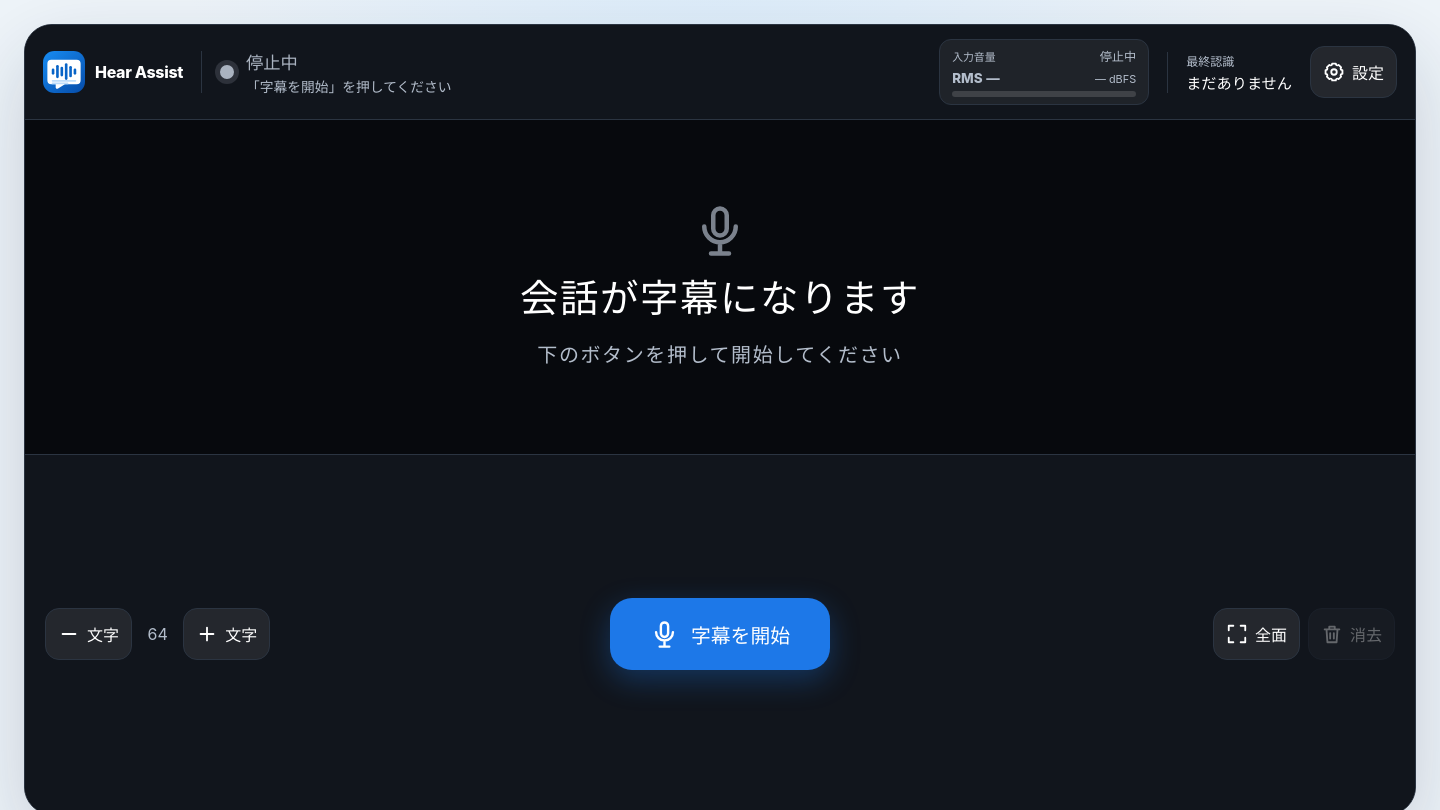
Test case: keeps Web Speech available and exposes local recognition speeds
Click the button "設定" at (1354, 72), box [1310, 46, 1397, 98]
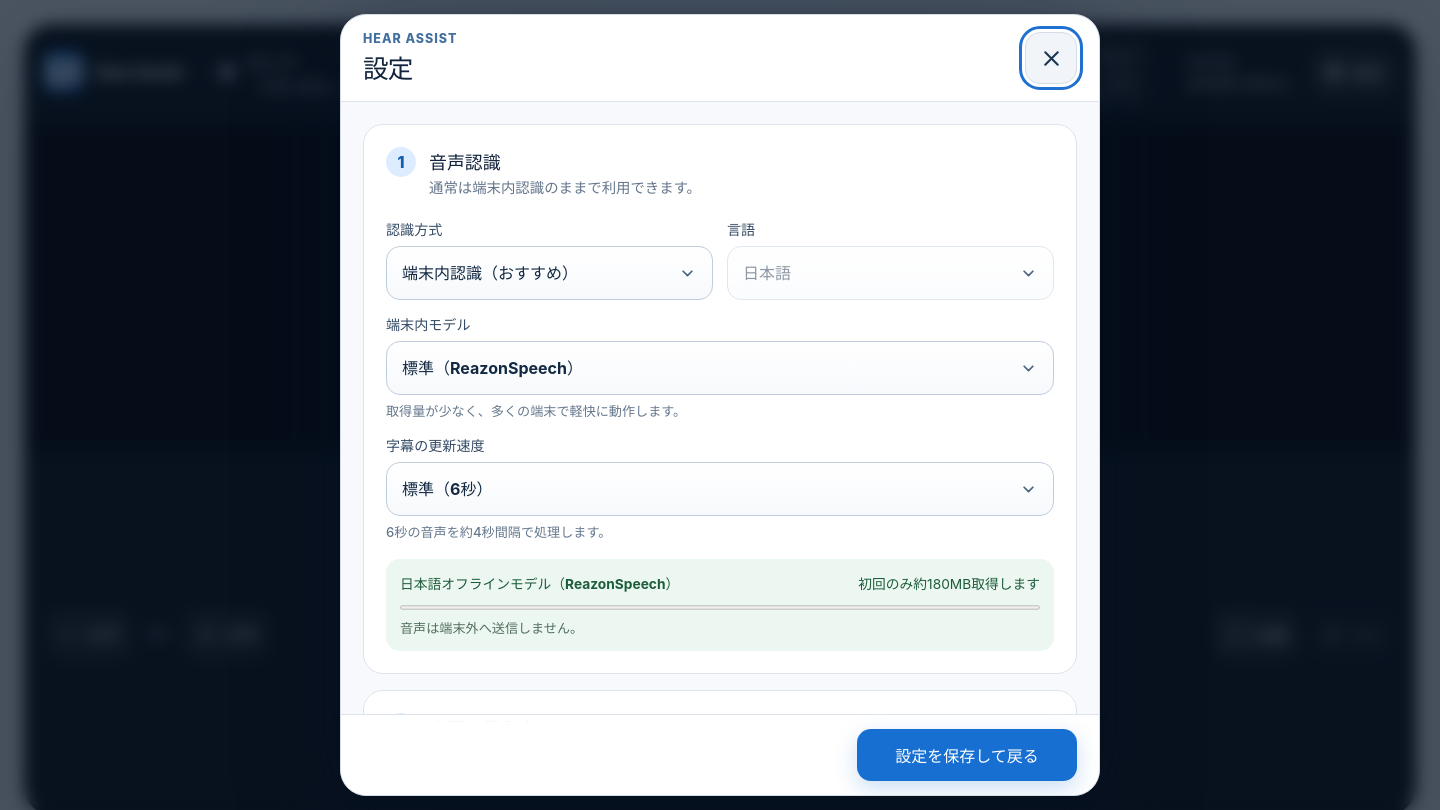
Result: the dropdown labelled "字幕の更新速度" shows "標準（6秒）" at [386, 462, 1054, 516]
Result: the text "6秒の音声を約4秒間隔で処理します。" is shown at [386, 524, 611, 540]
Result: the element named "ローカルモデルの状態" shows "初回のみ約180MB" at [858, 576, 1040, 592]
Select "Web Speech" in the dropdown labelled "認識方式" at (550, 273), box [386, 246, 713, 300]
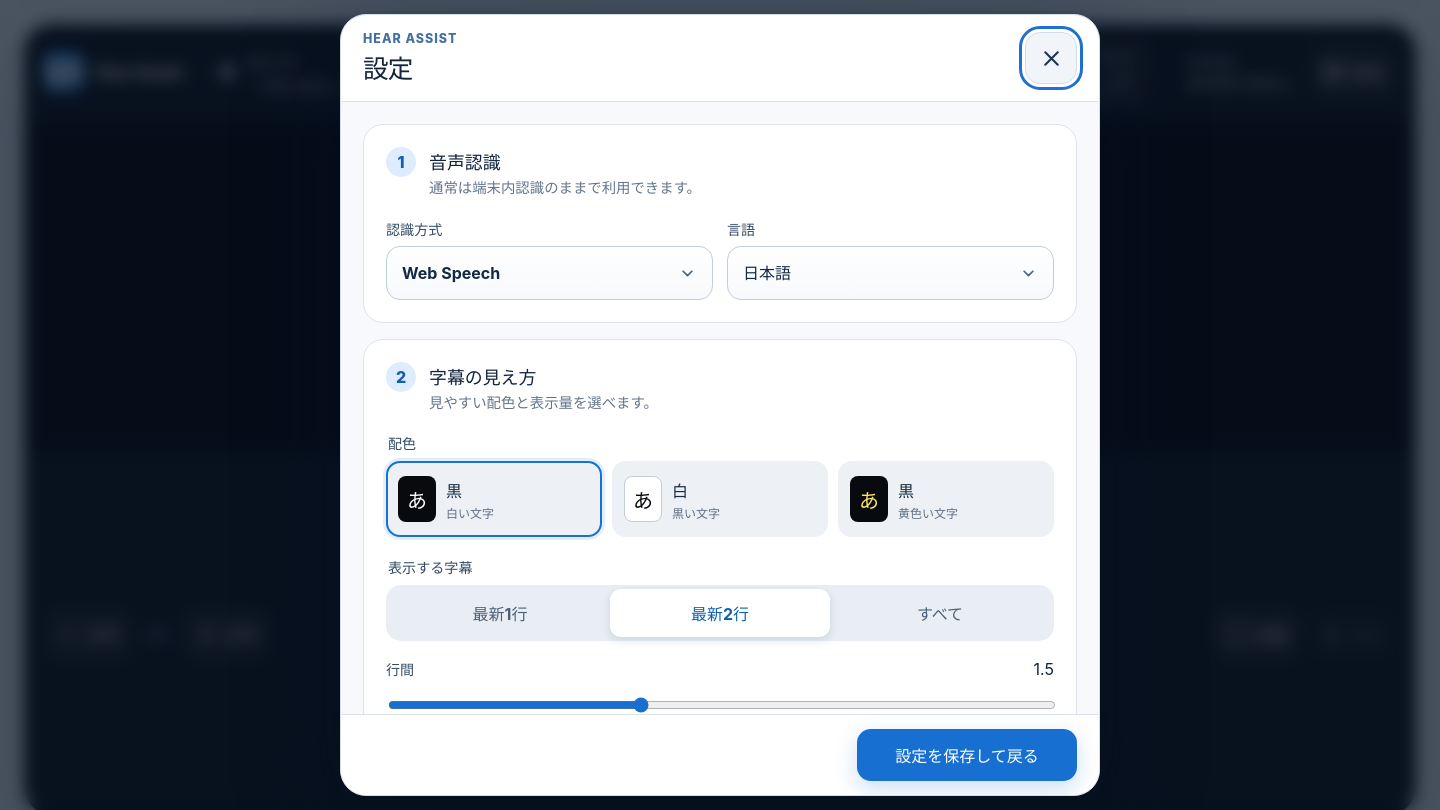
Result: the dropdown labelled "言語" is enabled at [727, 246, 1054, 300]
